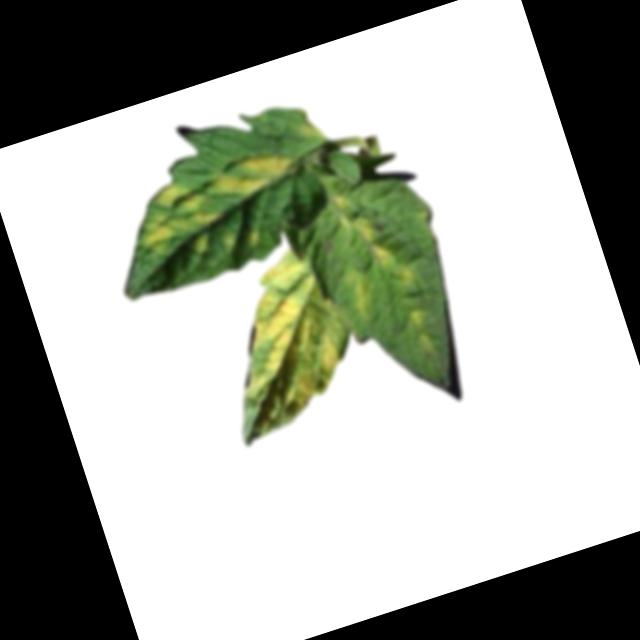Leaf_Mold: (203, 239, 369, 439), (129, 172, 224, 258), (205, 138, 298, 207), (338, 265, 380, 327), (354, 215, 396, 275), (327, 190, 359, 232), (297, 116, 327, 145), (394, 262, 419, 292), (243, 224, 268, 250), (407, 306, 430, 330)
